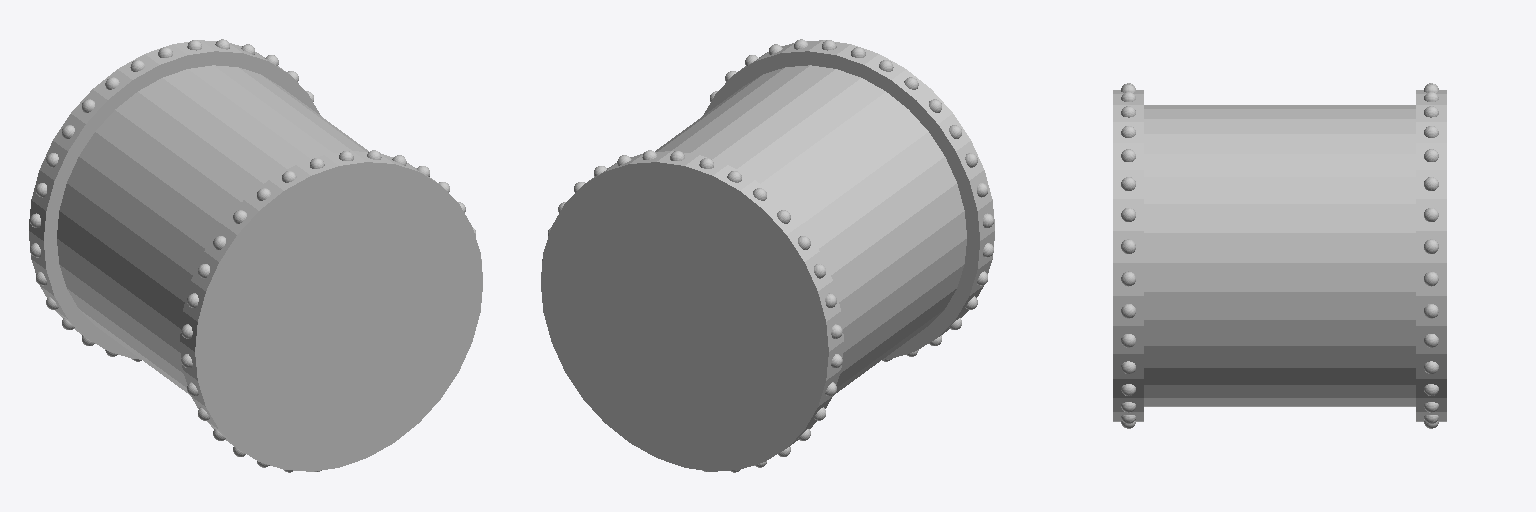
The model's file is pipe1.obj.
The picture shows the model from 3 angles: view 1: azimuth 30°, elevation 25°; view 2: azimuth 150°, elevation 25°; view 3: azimuth 270°, elevation 25°; orthographic projection.
Parts seen in each view (by area): view 1: pipe1_Cylinder; view 2: pipe1_Cylinder; view 3: pipe1_Cylinder.
Boxes of the visible parts, x1,y1,x2,y2 form: pipe1_Cylinder: [29, 39, 482, 472]; pipe1_Cylinder: [541, 39, 994, 472]; pipe1_Cylinder: [1113, 83, 1446, 428].
Bounding box in the file's own units: 0.2279 × 0.2279 × 0.22.